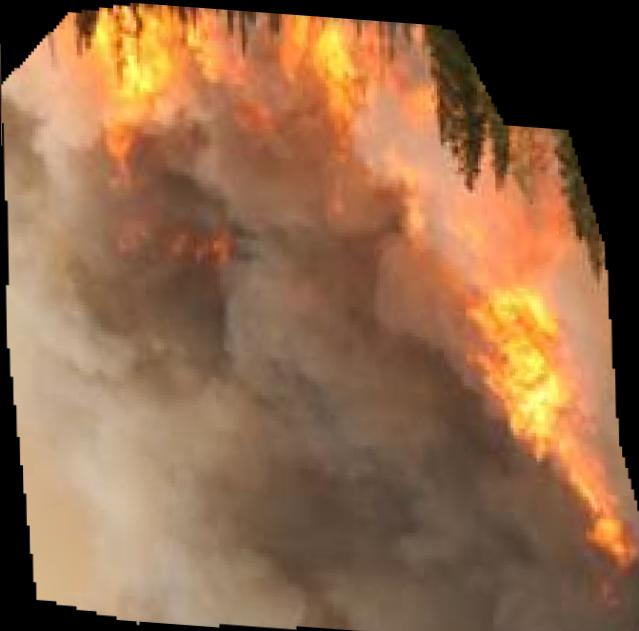fire: (0, 1, 639, 631)
